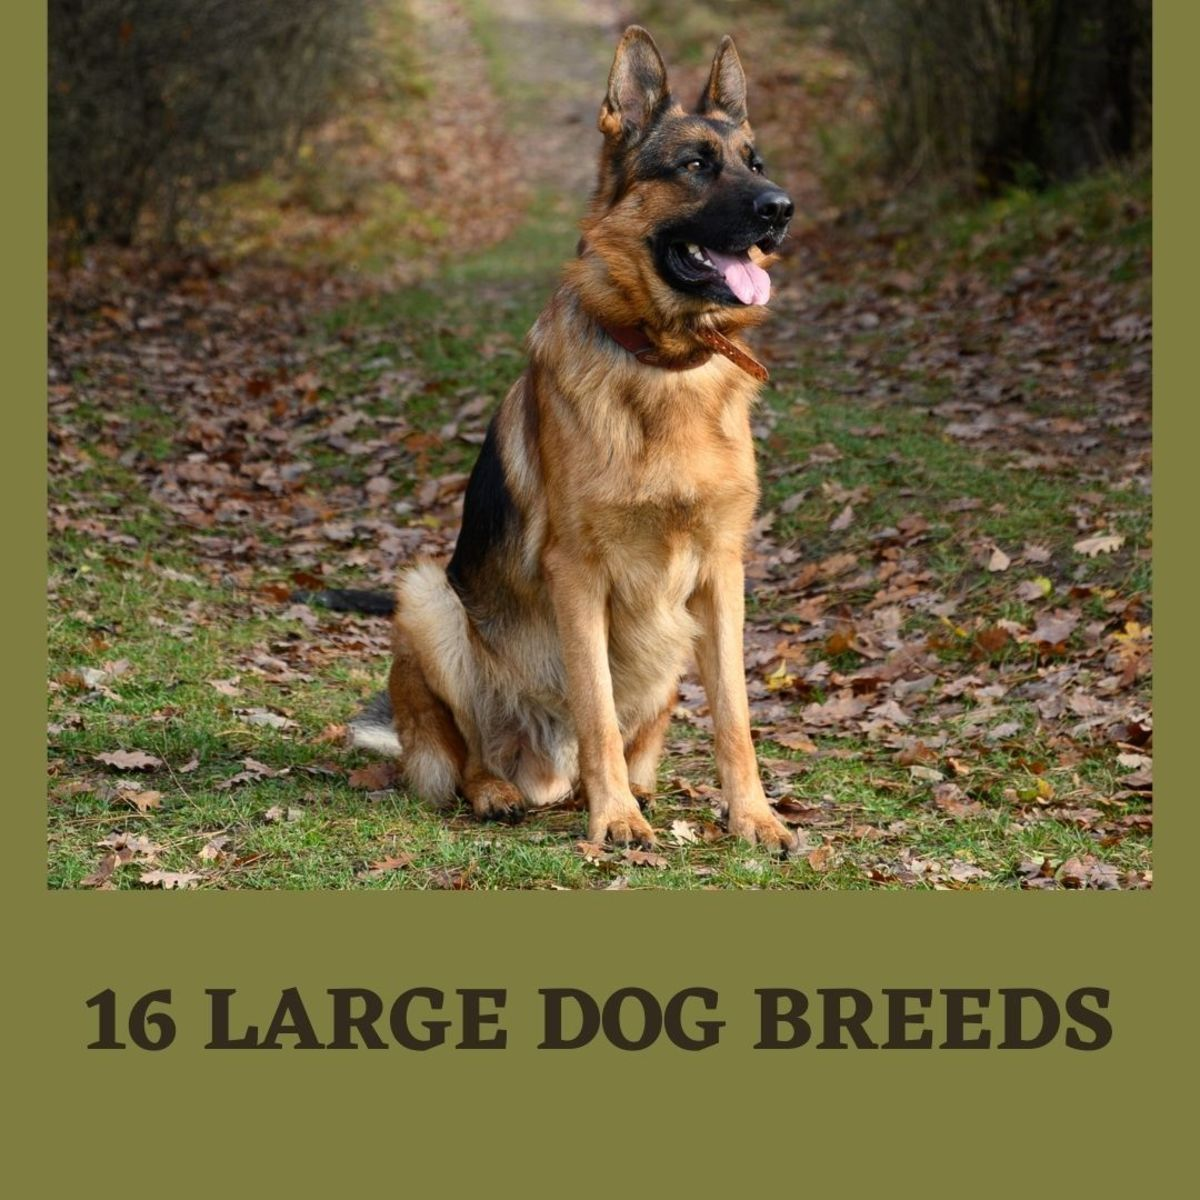Dog: (332, 16, 846, 873)
